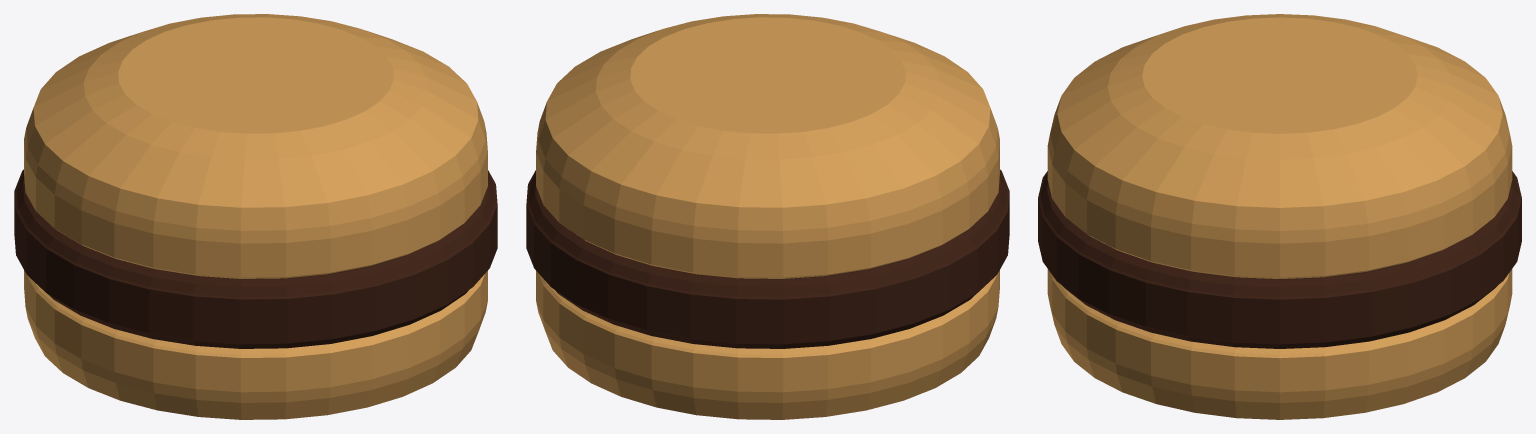
File: hamburger.fbx
3 renders of one model, left to right at view 1: azimuth 30°, elevation 25°; view 2: azimuth 150°, elevation 25°; view 3: azimuth 270°, elevation 25°, orthographic.
Visible parts, largest first — view 1: Hamburger; view 2: Hamburger; view 3: Hamburger.
Boxes of the visible parts, bbox=[...] form: Hamburger: bbox=[14, 14, 497, 419]; Hamburger: bbox=[526, 14, 1009, 419]; Hamburger: bbox=[1038, 14, 1521, 419].
Size of the model in its own units: 2.08 by 1.26 by 2.08.
